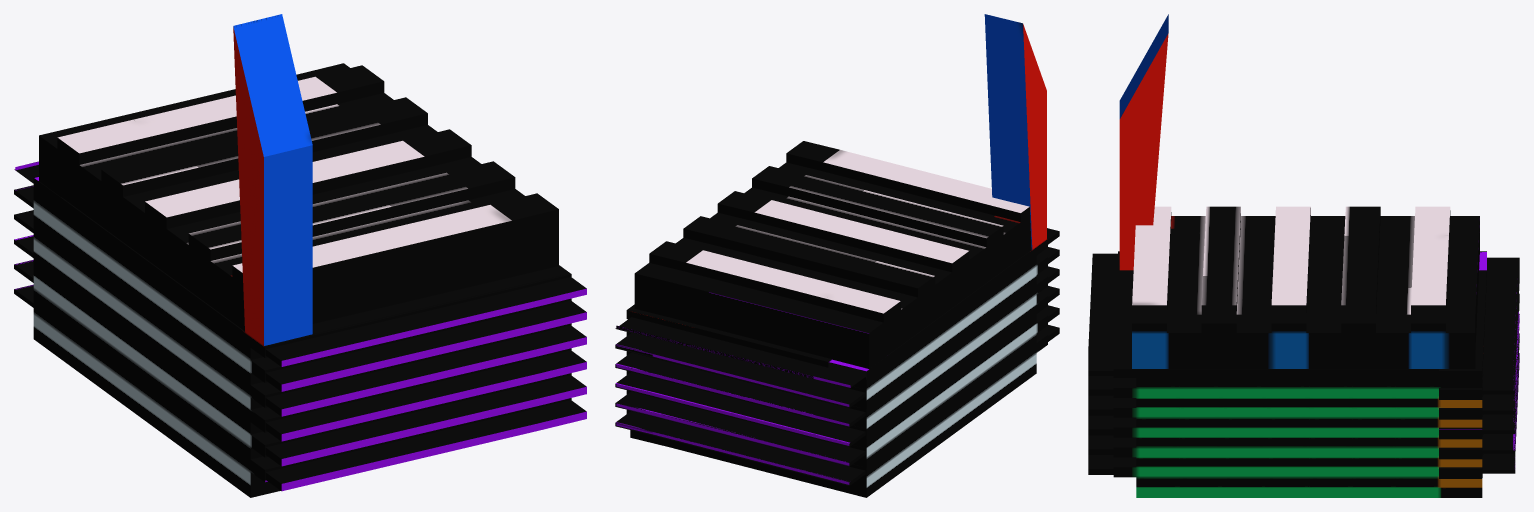
Rendered from futuristic building .fbx.
3 renders of one model, left to right at view 1: azimuth 30°, elevation 25°; view 2: azimuth 150°, elevation 25°; view 3: azimuth 270°, elevation 25°, orthographic. The views are drawn at different scales.
Visible parts, largest first — view 1: Cube; view 2: Cube; view 3: Cube.
Part boxes in pixels (<box>): Cube: <box>14,14,586,497</box>; Cube: <box>615,14,1059,497</box>; Cube: <box>1088,14,1519,497</box>.
Bounding box in the file's own units: 7224 × 10265 × 10963.
